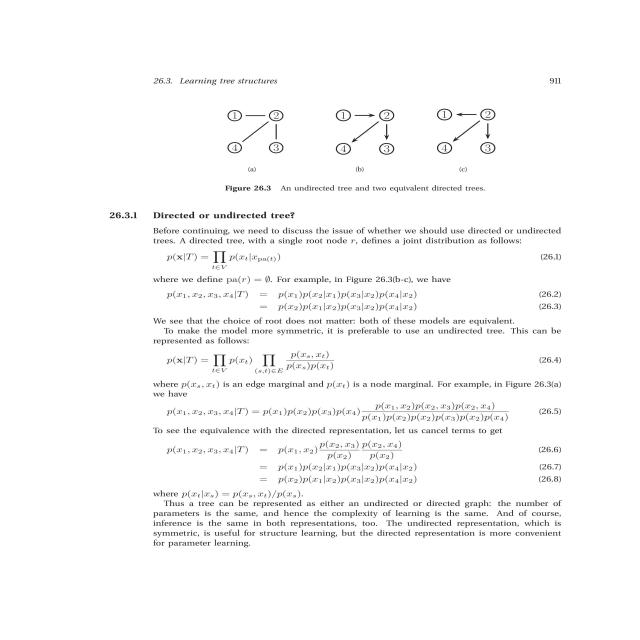diagram: (115, 96, 568, 211)
